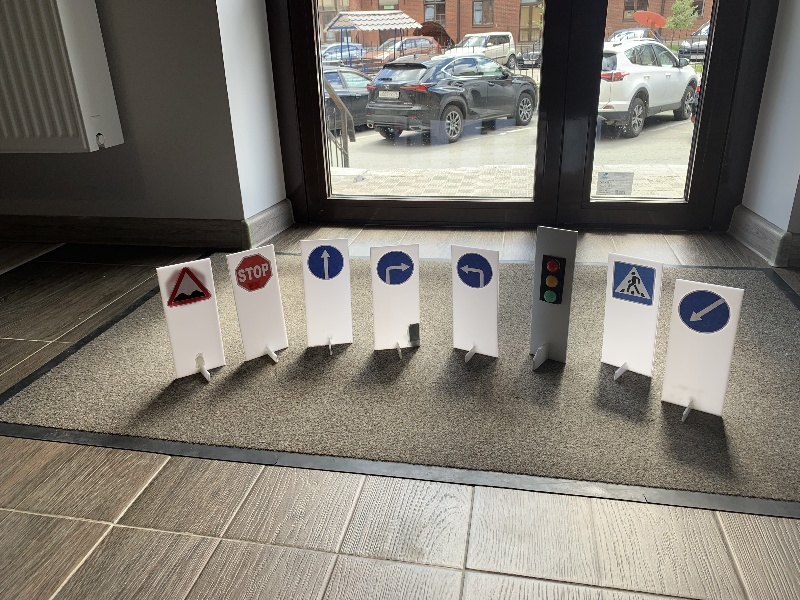Left: (457, 249, 494, 293)
Nerov: (166, 269, 211, 312)
Right: (375, 249, 414, 285)
Stop: (236, 254, 271, 292)
forw: (307, 244, 344, 280)
pesh: (612, 261, 655, 306)
prep: (677, 290, 731, 335)
